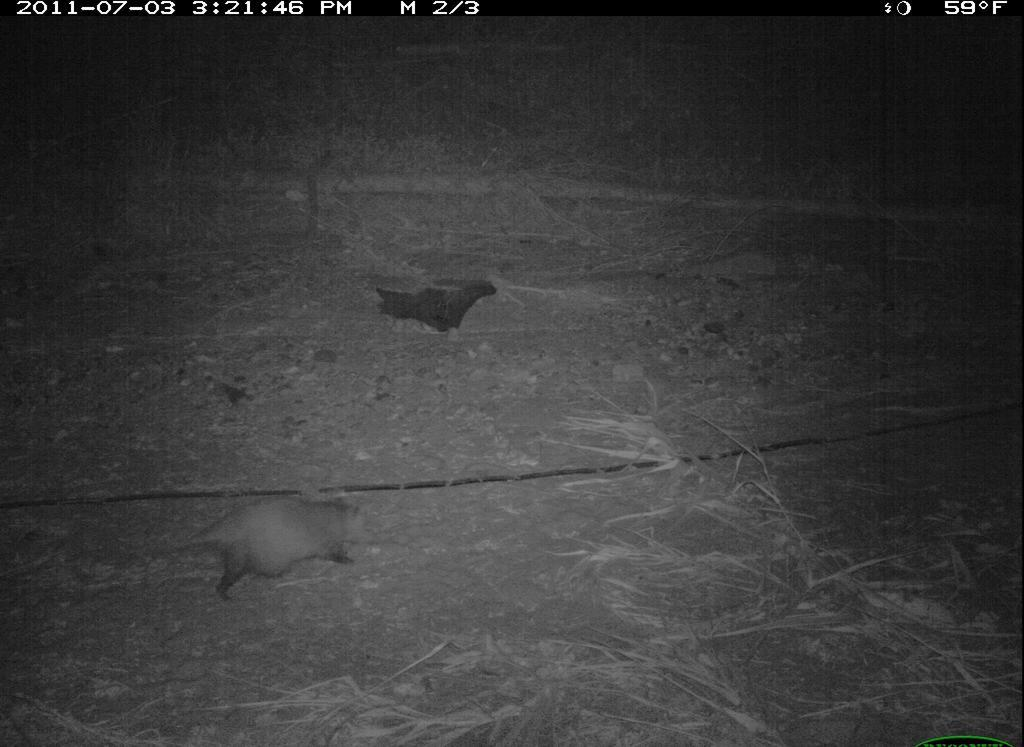opossum: (104, 472, 400, 619)
